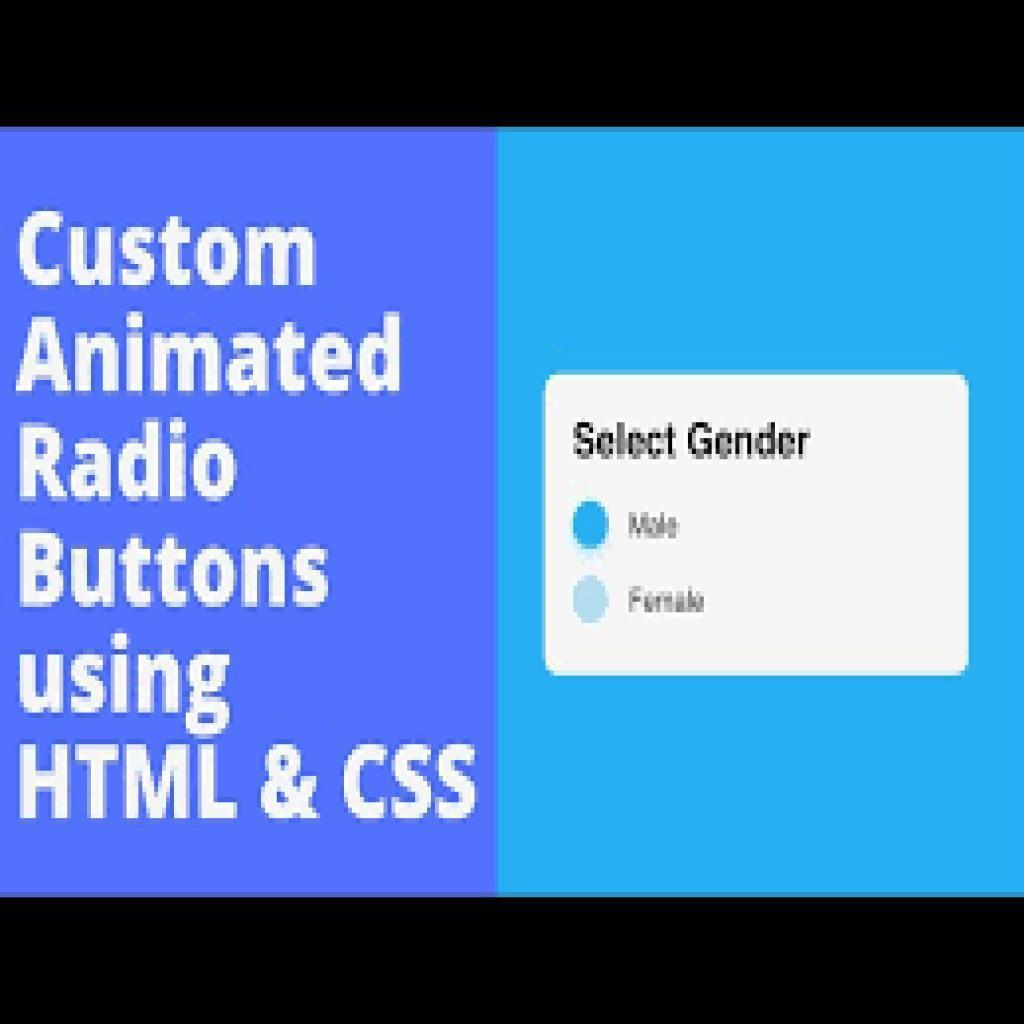icon: (628, 581, 712, 622), (621, 504, 687, 551)
radio: (568, 498, 616, 555), (570, 576, 613, 628)
